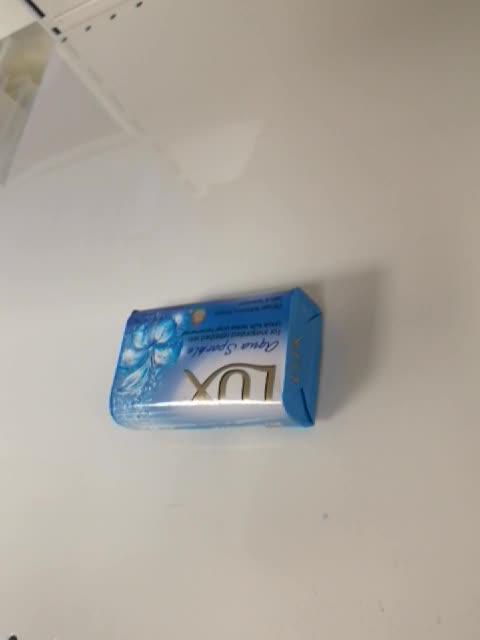soap: (108, 283, 325, 431)
